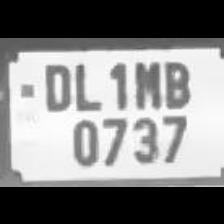0: (65, 112, 99, 166)
1: (103, 54, 132, 110)
3: (129, 111, 159, 164)
7: (158, 107, 188, 165), (98, 112, 127, 166)
B: (159, 56, 191, 106)
D: (38, 56, 72, 112)
L: (70, 54, 102, 110)
M: (128, 56, 160, 107)
